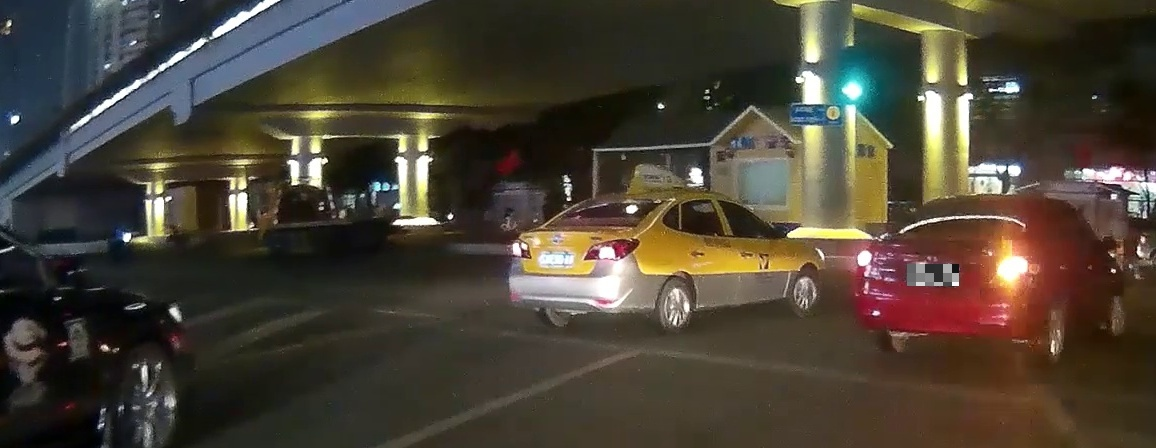L_light: (854, 249, 881, 280), (511, 238, 532, 259)
R_light: (583, 238, 640, 261), (997, 255, 1028, 283)
T_light: (966, 201, 991, 205), (580, 223, 603, 226)
night-no: (508, 189, 675, 334)
night-right: (853, 193, 1039, 367)
plate_1: (907, 264, 959, 286)
